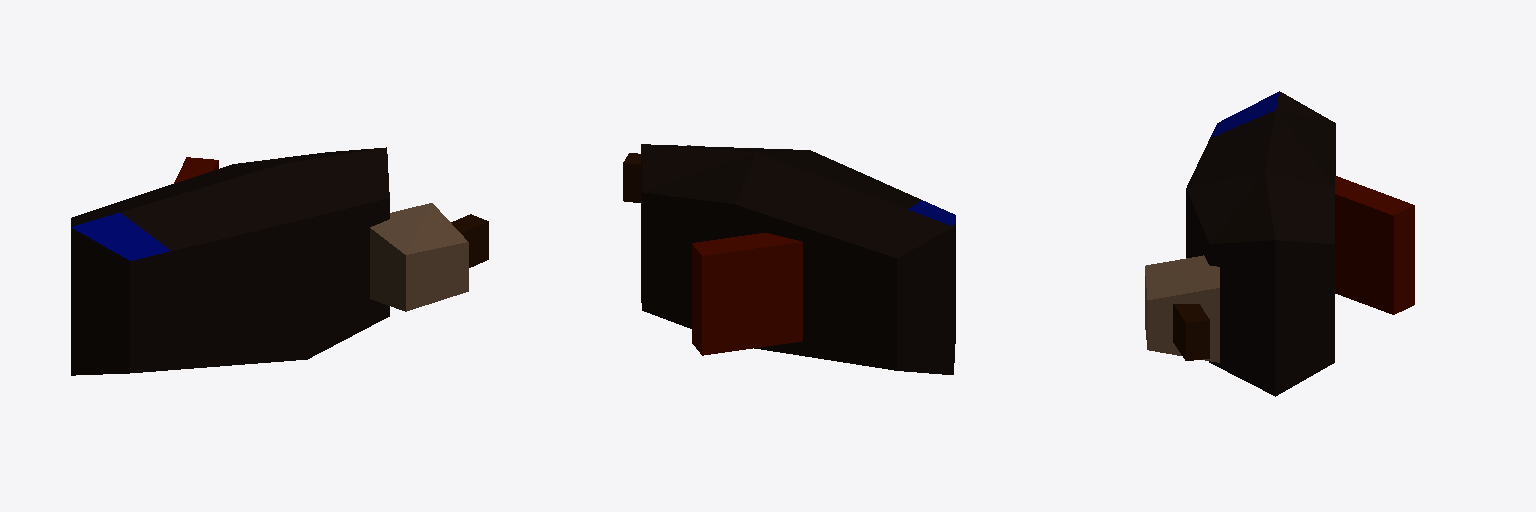
File: duck_female.obj
The picture shows the model from 3 angles: view 1: azimuth 30°, elevation 25°; view 2: azimuth 150°, elevation 25°; view 3: azimuth 270°, elevation 25°; orthographic projection.
Size of the model in its own units: 1.7 by 0.8135 by 1.07.